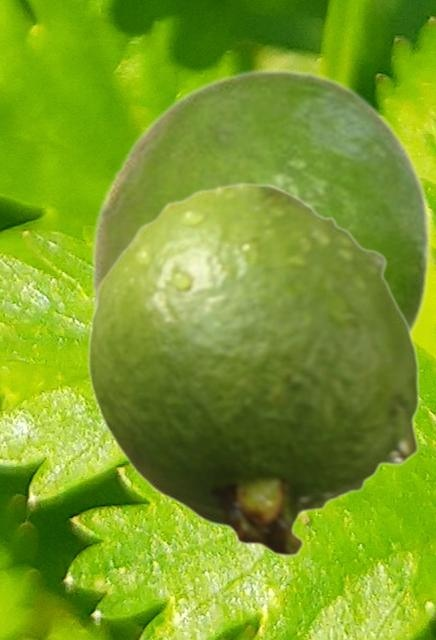guava: (86, 181, 419, 556), (90, 66, 432, 335)
